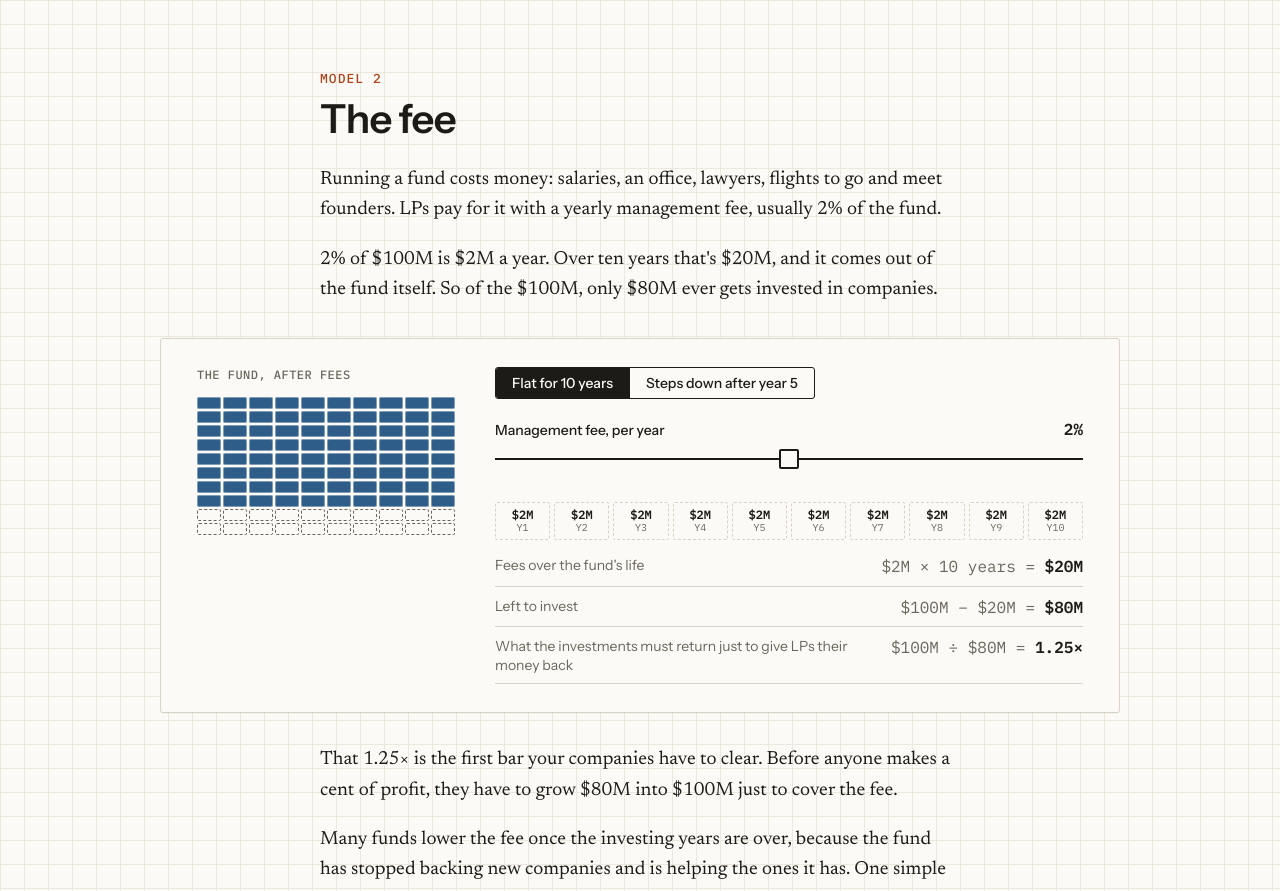
Part two, model 2: the fee › moves with the fee
Set the slider labelled "Management fee, per year" to "2" at (1075, 459), box [495,445,1083,473]
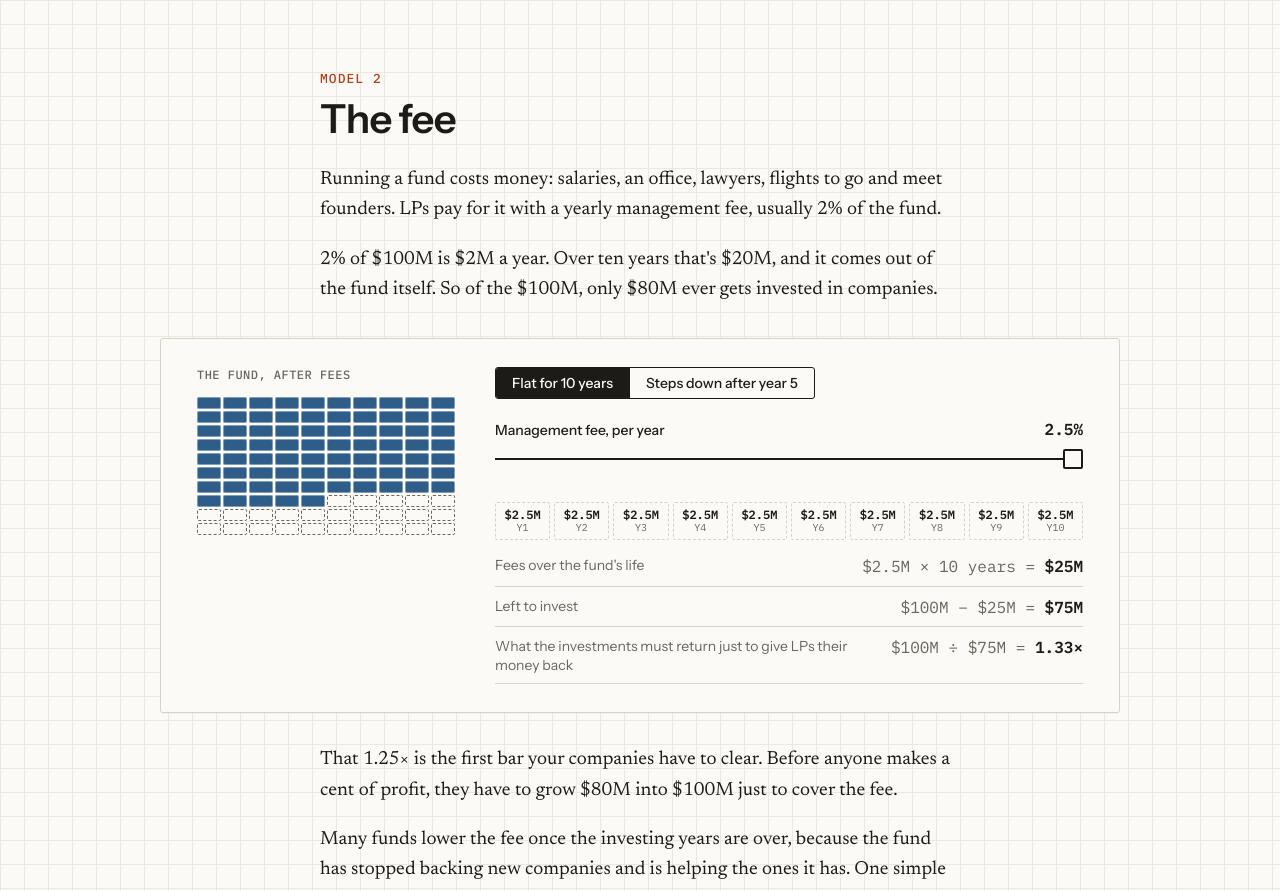
Expected: the element with test id "f2-invested" reads "$100M − $25M = $75M", [900,597,1083,618]
Expected: the element with test id "f2-needed" reads "$100M ÷ $75M = 1.33×", [891,637,1083,657]
